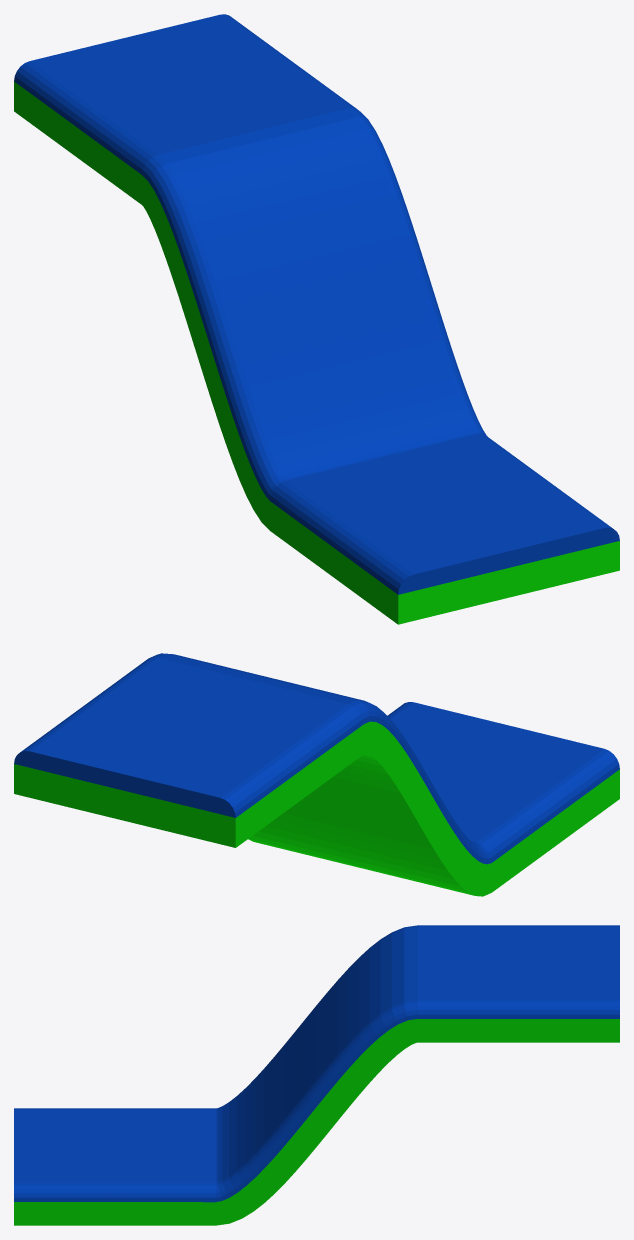
3 views of the same model, one above another, from view 1: azimuth 30°, elevation 25°; view 2: azimuth 150°, elevation 25°; view 3: azimuth 270°, elevation 25° (orthographic). The views are drawn at different scales.
Parts seen in each view (by area): view 1: plank10; view 2: plank10; view 3: plank10.
Boxes of the visible parts, <box> form: plank10: <box>14,14,619,624</box>; plank10: <box>14,653,619,896</box>; plank10: <box>14,925,619,1225</box>.
Bounding box in the file's own units: 500 × 600 × 1500.
